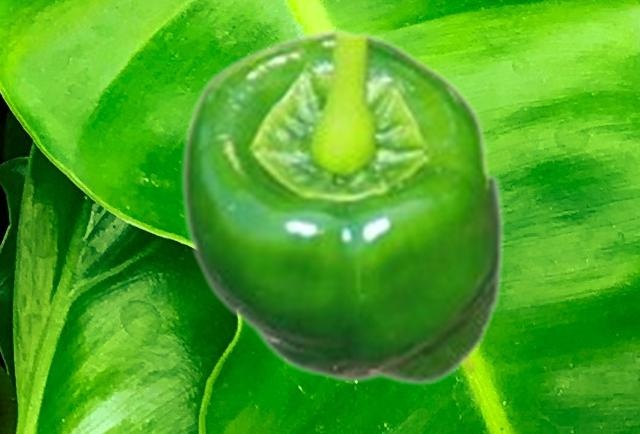bell_pepper: (178, 27, 505, 385)
